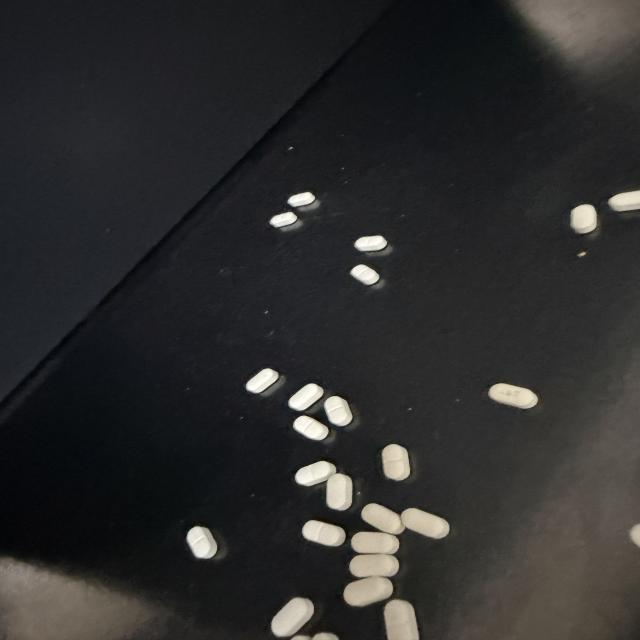pill: (271, 598, 314, 637), (401, 508, 449, 538), (344, 577, 393, 606), (384, 600, 419, 639), (362, 504, 404, 534), (489, 383, 538, 408), (350, 554, 399, 577), (302, 520, 345, 546), (351, 532, 399, 554), (295, 461, 336, 486), (382, 444, 410, 480), (187, 527, 217, 559), (326, 474, 352, 510), (289, 383, 323, 410), (293, 416, 328, 440), (325, 396, 352, 426), (246, 368, 278, 393), (571, 204, 597, 233), (608, 190, 640, 212), (351, 265, 379, 285), (355, 236, 387, 251), (270, 212, 297, 227), (288, 192, 315, 207), (629, 524, 639, 546), (312, 632, 339, 639), (291, 635, 311, 639)
